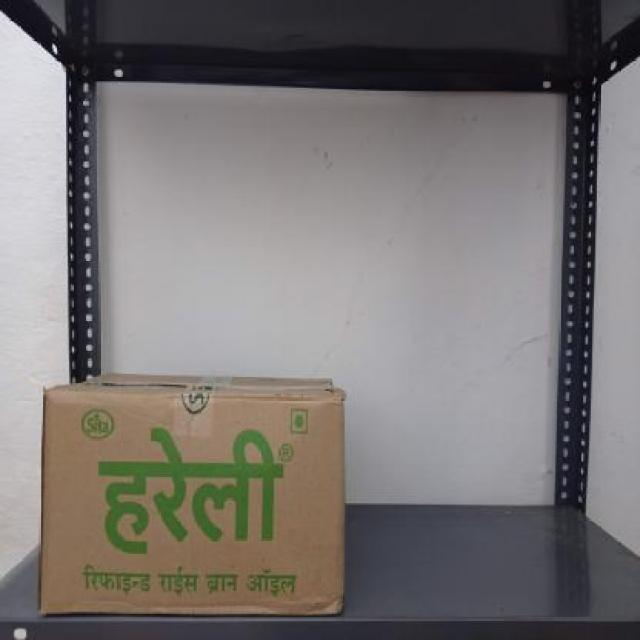box: (40, 389, 346, 614)
